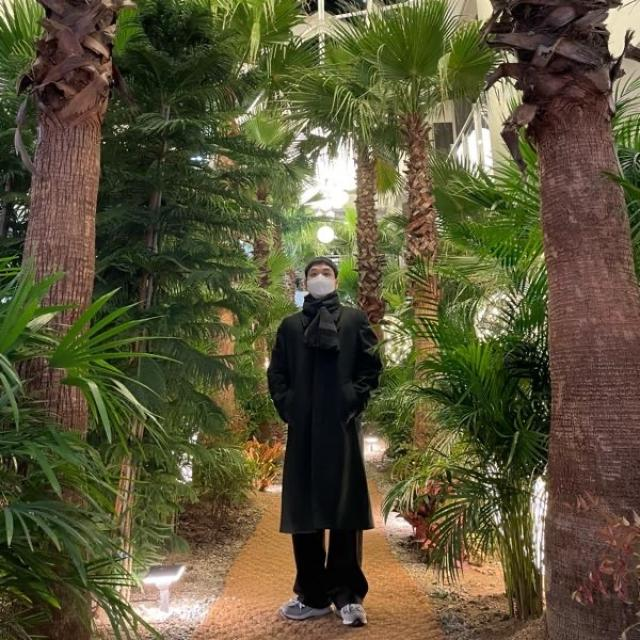coat: (268, 301, 381, 534)
slacks: (290, 531, 370, 609)
